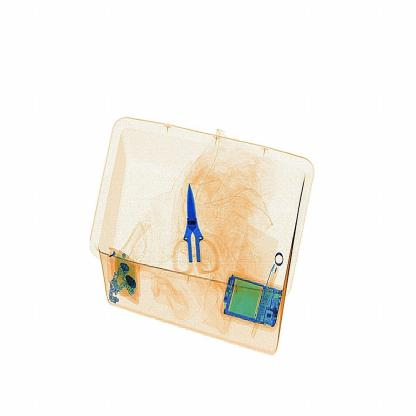gun: (171, 184, 225, 276)
